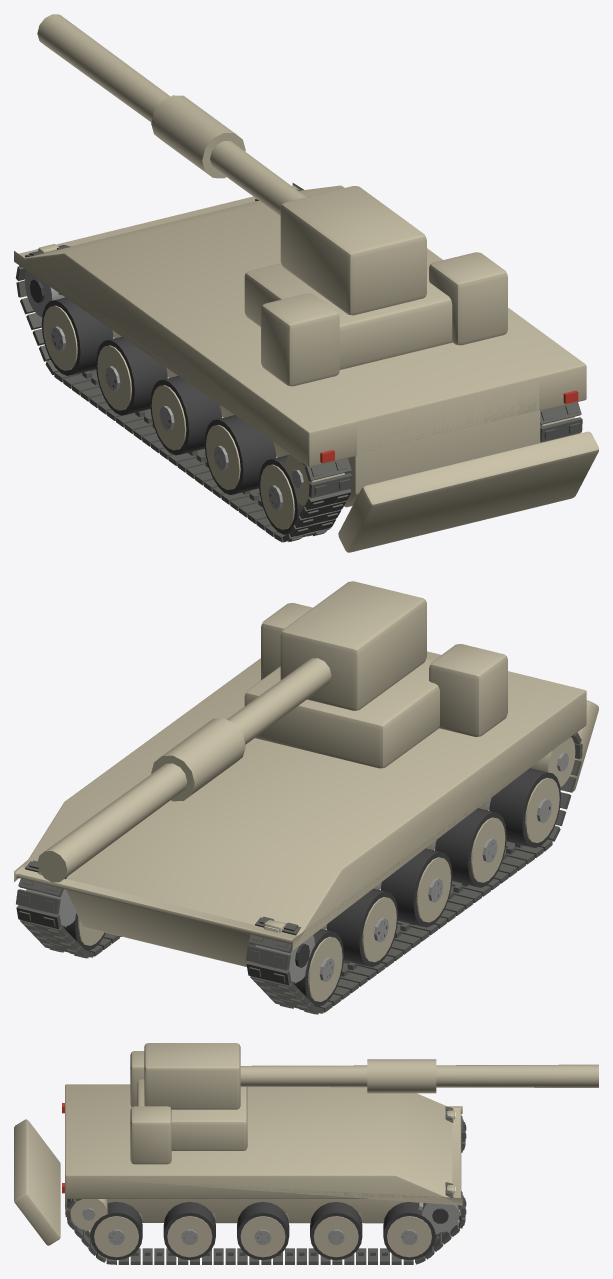
The model's file is rus_spg_malka.glb.
3 views of the same model, one above another, from view 1: azimuth 30°, elevation 25°; view 2: azimuth 150°, elevation 25°; view 3: azimuth 270°, elevation 25° (orthographic). The views are drawn at different scales.
Parts seen in each view (by area): view 1: body, barrel, turret; view 2: body, barrel, turret; view 3: body, barrel, turret.
Boxes of the visible parts, x1,y1,x2,y2 form: body: [14, 183, 598, 552]; barrel: [37, 14, 426, 315]; turret: [244, 263, 452, 369]; body: [14, 603, 598, 1014]; barrel: [37, 581, 426, 882]; turret: [244, 659, 439, 768]; body: [14, 1051, 466, 1264]; barrel: [144, 1043, 598, 1109]; turret: [137, 1079, 247, 1150].
Bounding box in the file's own units: 3.15 × 2.67 × 8.49.
